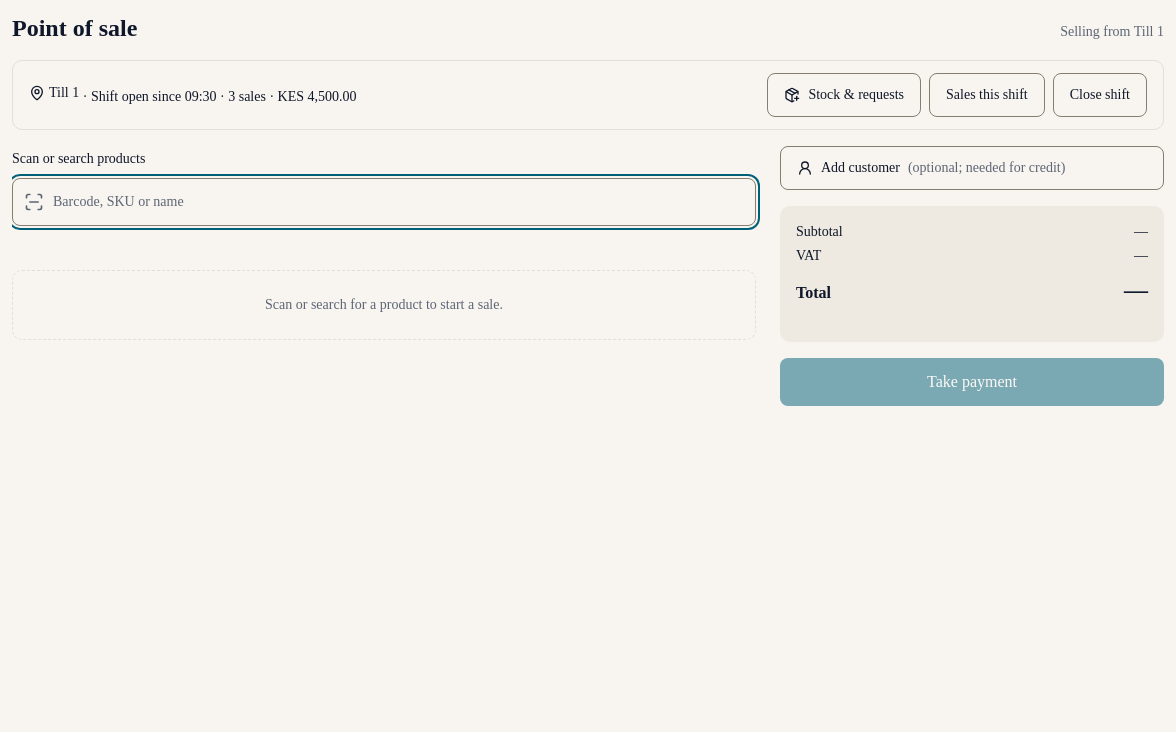
selling › a mistyped discount is a line error and is never sent
Type "cement" into the search field labelled "Scan or search products" at [384, 202], box x1=12 y1=178 x2=756 y2=226
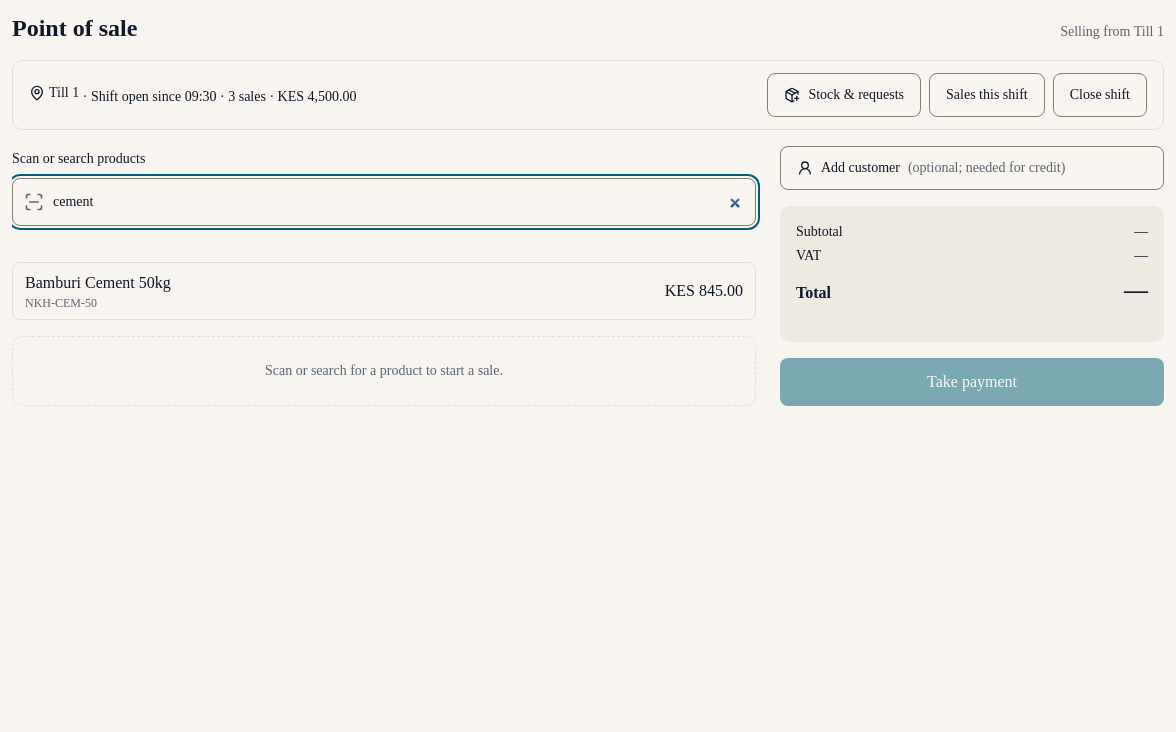
Click the button "Bamburi Cement 50kg NKH-CEM-50 KES 845.00" at [98, 282], box x1=12 y1=262 x2=756 y2=320
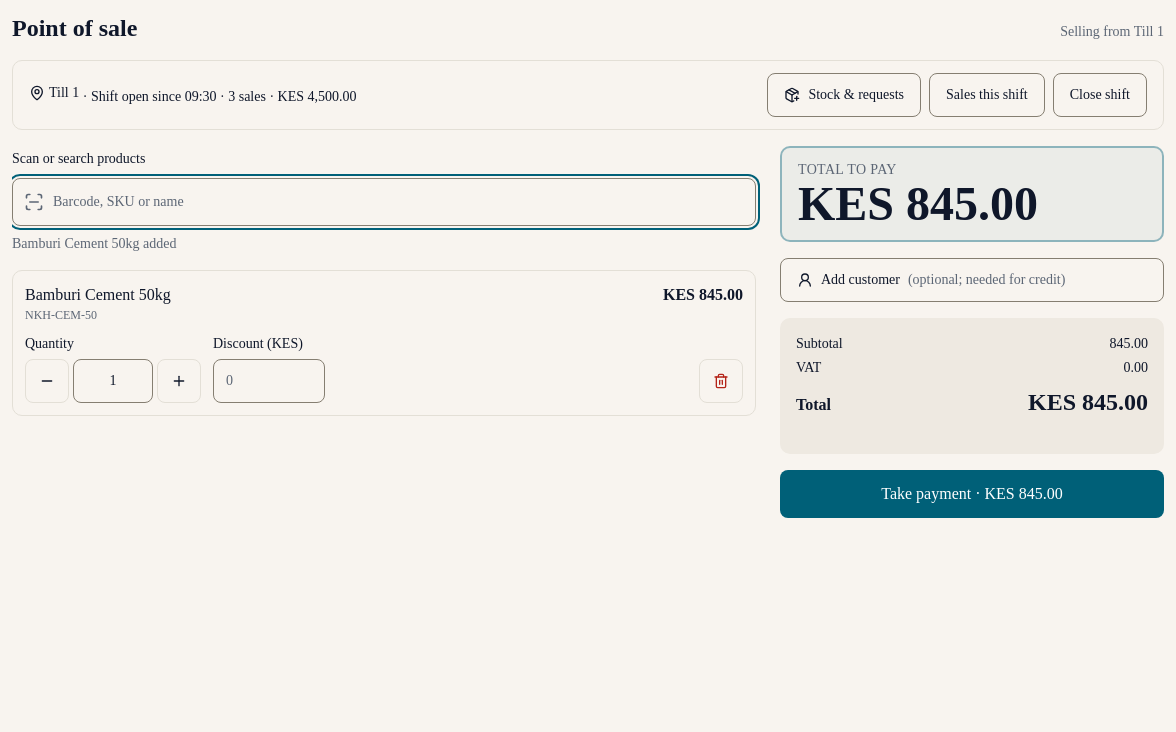
Type "12.345" into the field labelled "Discount (KES)" at [269, 381], box x1=213 y1=359 x2=325 y2=403
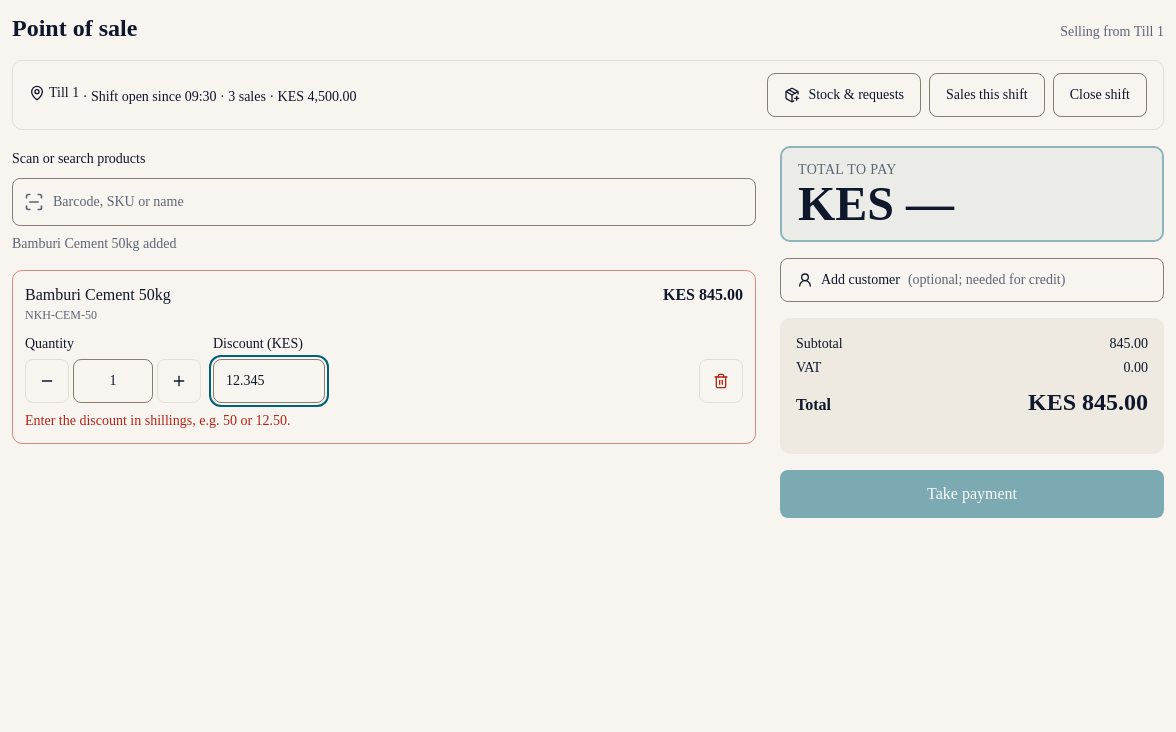
Expected: the text "Enter the discount in shillings, e.g. 50 or 12.50." is shown, x1=25 y1=413 x2=291 y2=428
